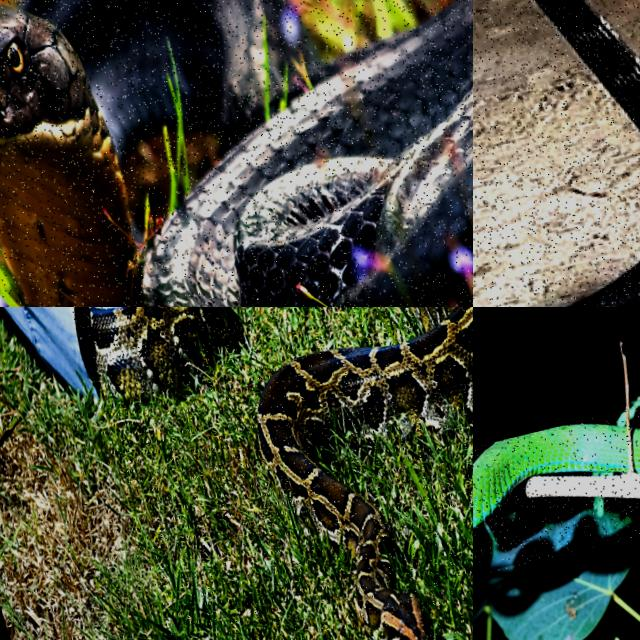Ophiophagus hannah: (0, 0, 294, 306), (536, 0, 639, 129)
Python bivittatus: (258, 307, 472, 639)
Trimeresurus macrops: (473, 428, 631, 536)
